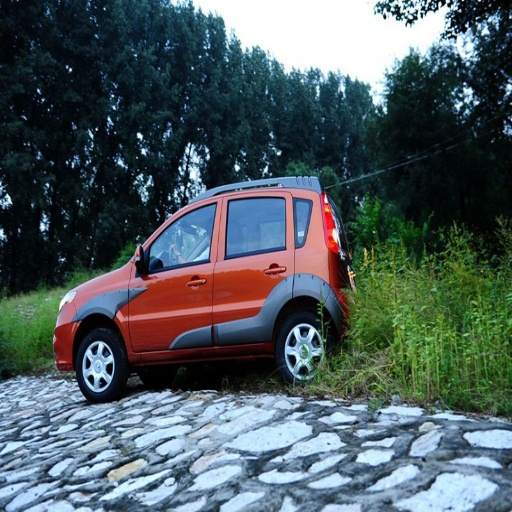back_left_door: (213, 193, 294, 345)
